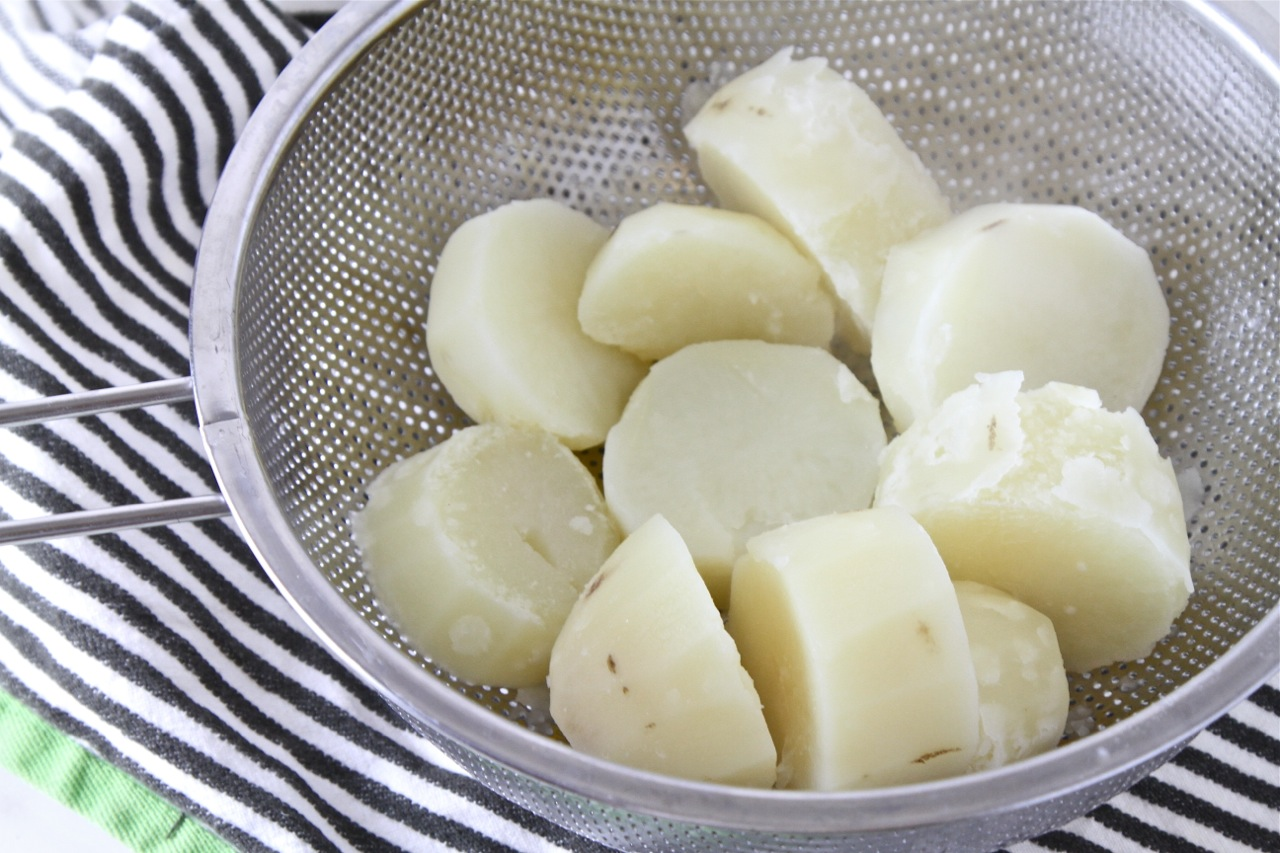boiled potatoes: (421, 124, 1168, 788)
